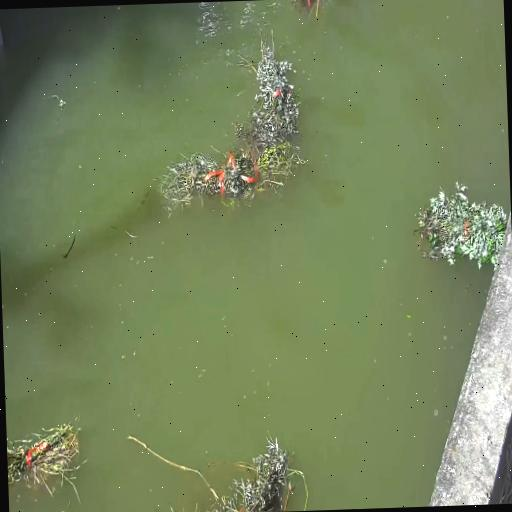twig: (131, 426, 301, 512), (158, 140, 300, 210), (414, 180, 510, 268), (241, 28, 301, 150), (6, 416, 86, 500)
